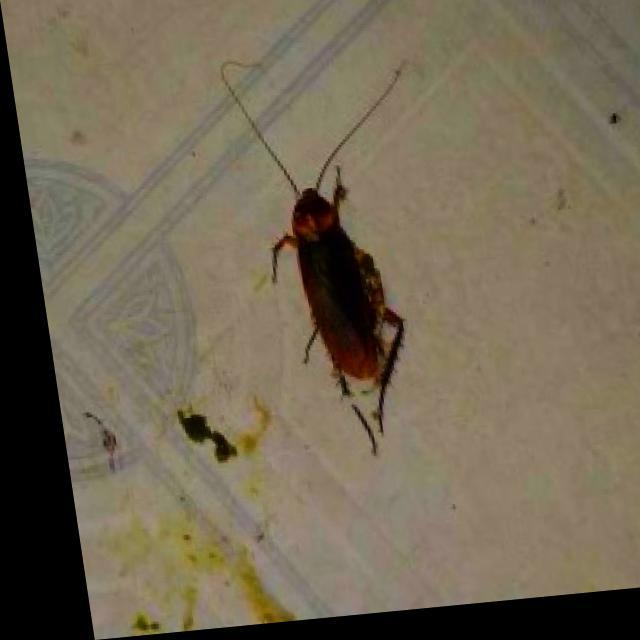cockroach: (254, 146, 418, 465)
